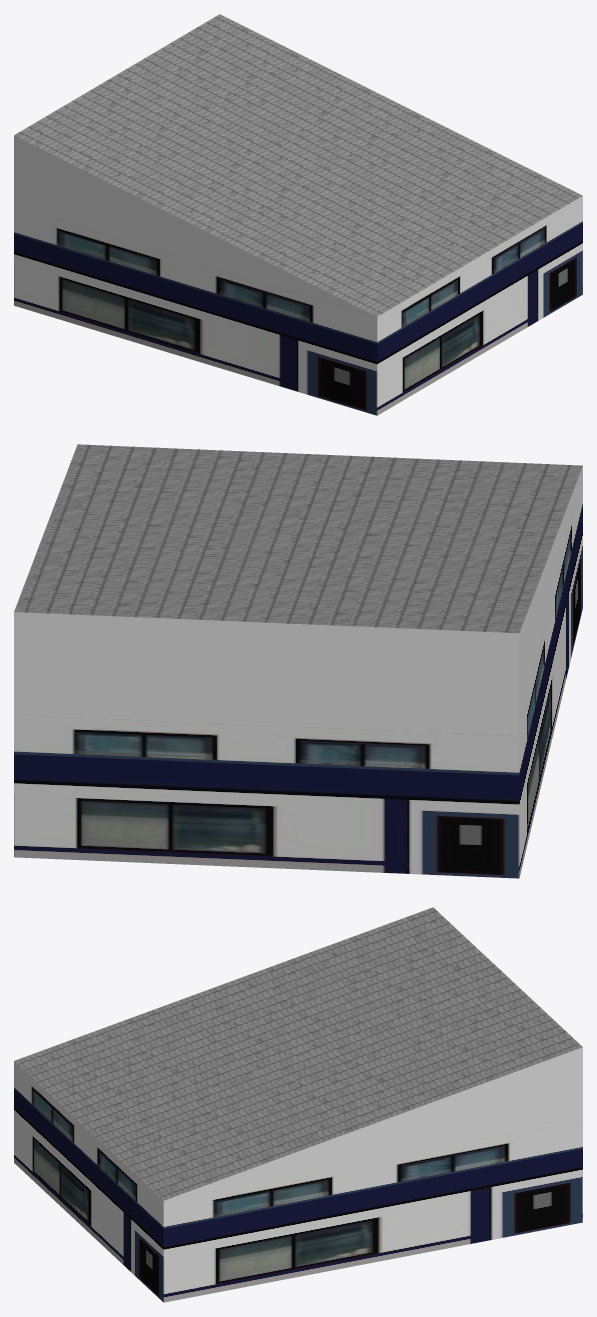
3 renders of one model, top to bottom at view 1: azimuth 30°, elevation 25°; view 2: azimuth 150°, elevation 25°; view 3: azimuth 270°, elevation 25°, orthographic. The views are drawn at different scales.
Visible parts, largest first — view 1: CityEngineMaterial_4_m, CityEngineMaterial_2_m, CityEngineMaterial_3_m; view 2: CityEngineMaterial_4_m, CityEngineMaterial_2_m, CityEngineMaterial_3_m; view 3: CityEngineMaterial_4_m, CityEngineMaterial_2_m, CityEngineMaterial_3_m.
Part boxes in pixels (bbox=[...]): CityEngineMaterial_4_m: bbox=[14, 14, 582, 316]; CityEngineMaterial_2_m: bbox=[14, 196, 582, 415]; CityEngineMaterial_3_m: bbox=[14, 135, 375, 316]; CityEngineMaterial_4_m: bbox=[14, 444, 582, 633]; CityEngineMaterial_2_m: bbox=[14, 466, 582, 878]; CityEngineMaterial_3_m: bbox=[14, 467, 582, 735]; CityEngineMaterial_4_m: bbox=[14, 907, 582, 1200]; CityEngineMaterial_2_m: bbox=[14, 1061, 582, 1302]; CityEngineMaterial_3_m: bbox=[165, 1047, 582, 1200].
Size of the model in its own units: 33.19 by 12.34 by 36.27.
